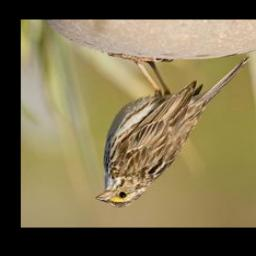Sparrow: (93, 44, 254, 211)
